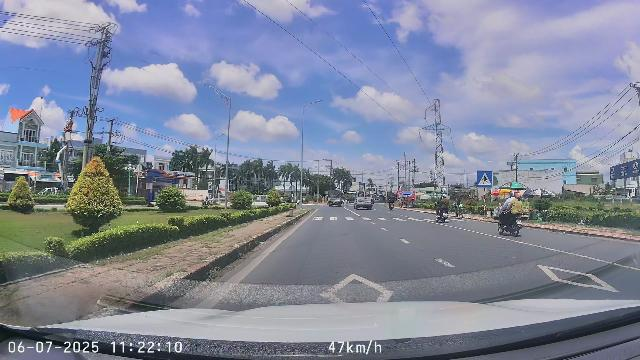423a-duong-nguoi-di-bo-sang-ngang-1: (477, 170, 493, 188)
